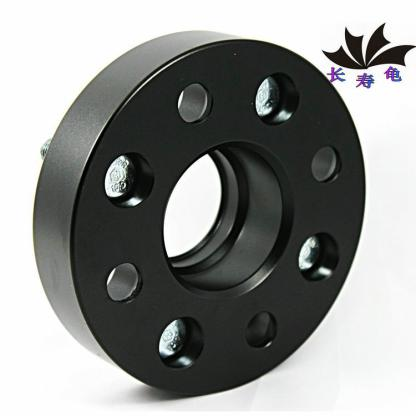FOD: (27, 24, 376, 400)
